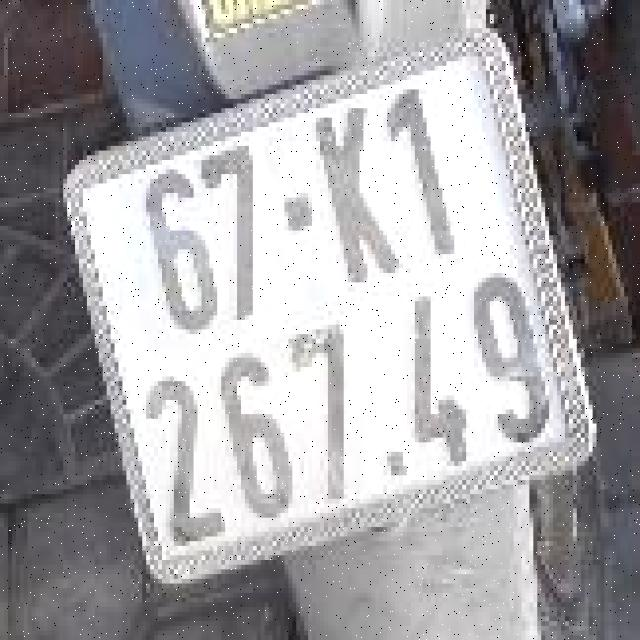1: (373, 72, 470, 270)
2: (130, 364, 236, 552)
4: (391, 281, 485, 472)
6: (130, 148, 236, 346), (213, 338, 304, 536)
7: (277, 315, 373, 507), (198, 138, 283, 329)
9: (458, 252, 568, 458)
K: (298, 90, 412, 302)
